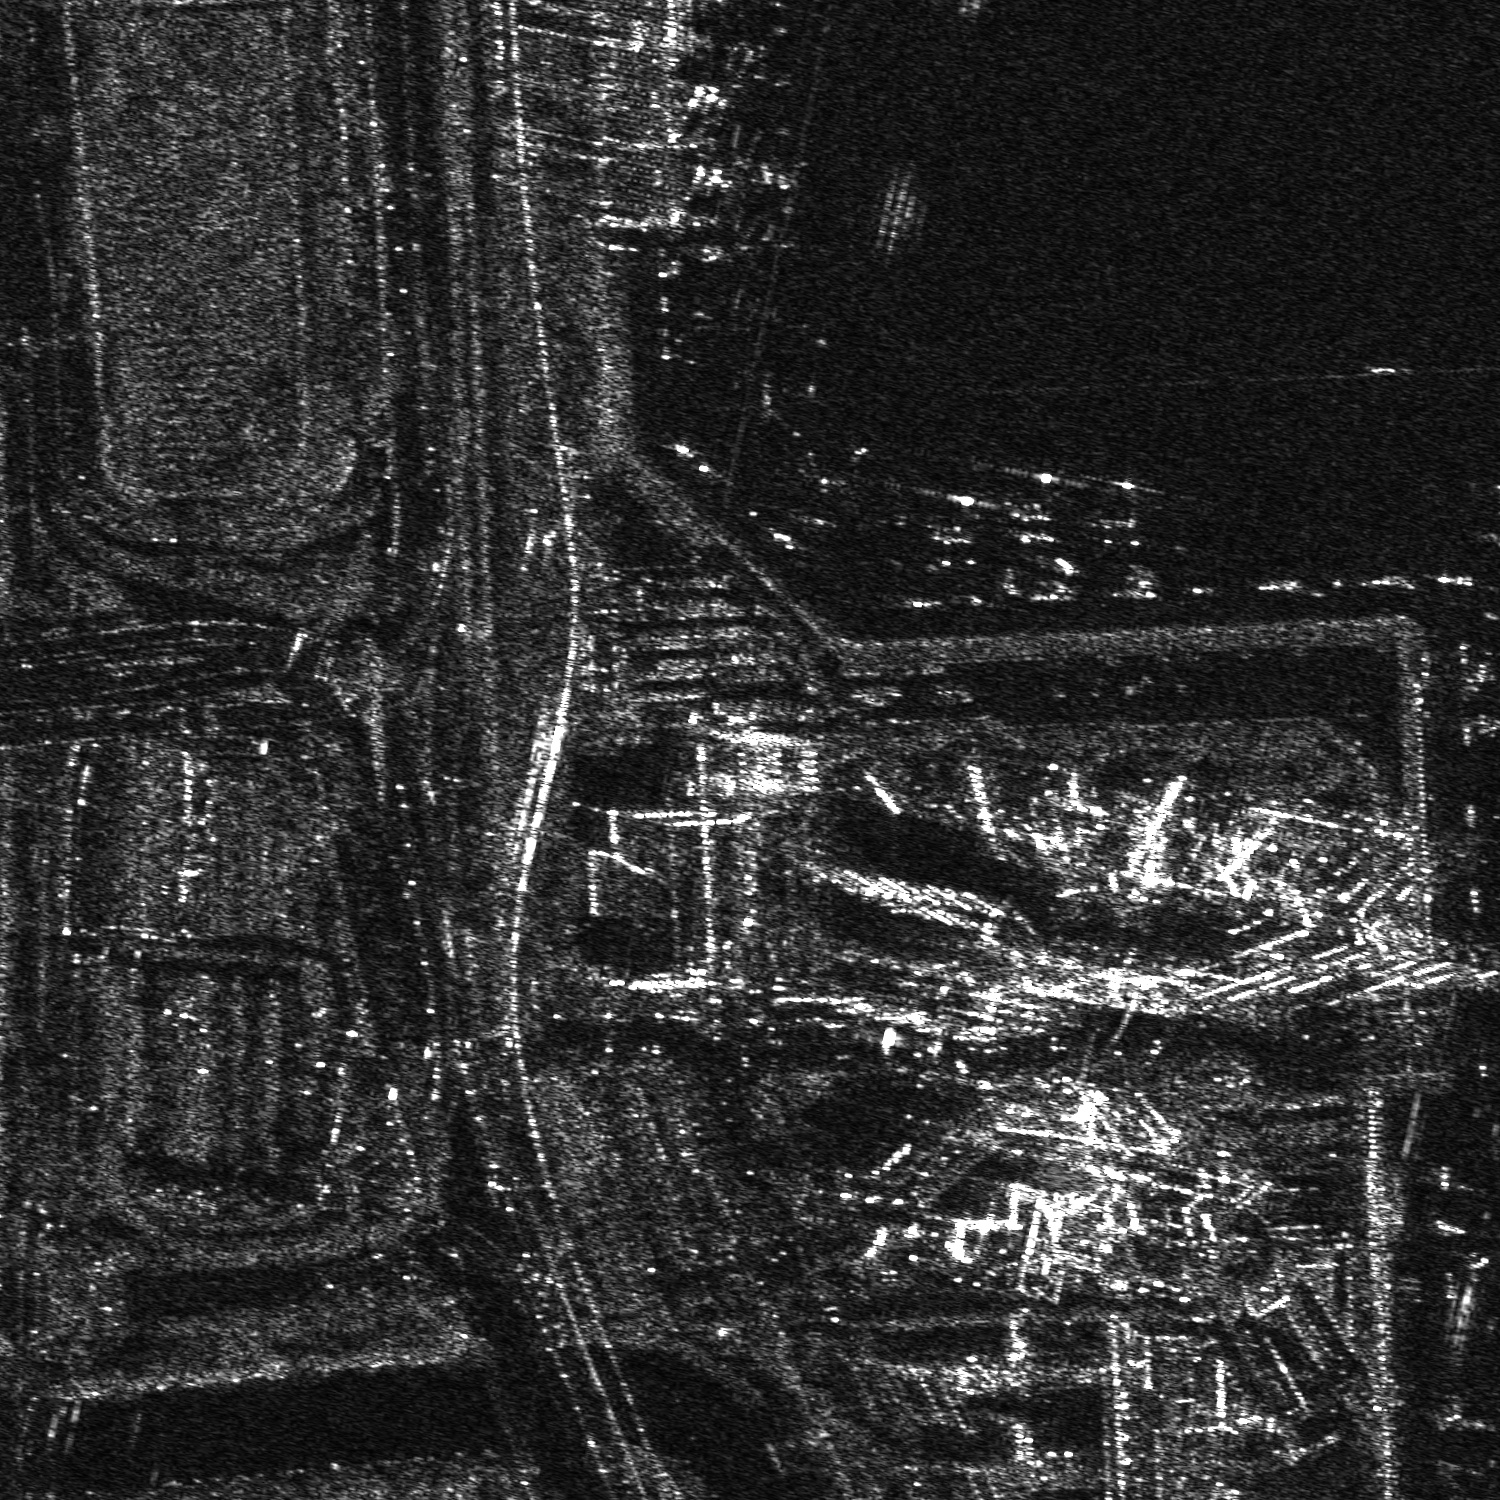A220: (988, 464, 1063, 554)
Boeing737: (900, 484, 982, 556)
other: (1080, 475, 1151, 552)
